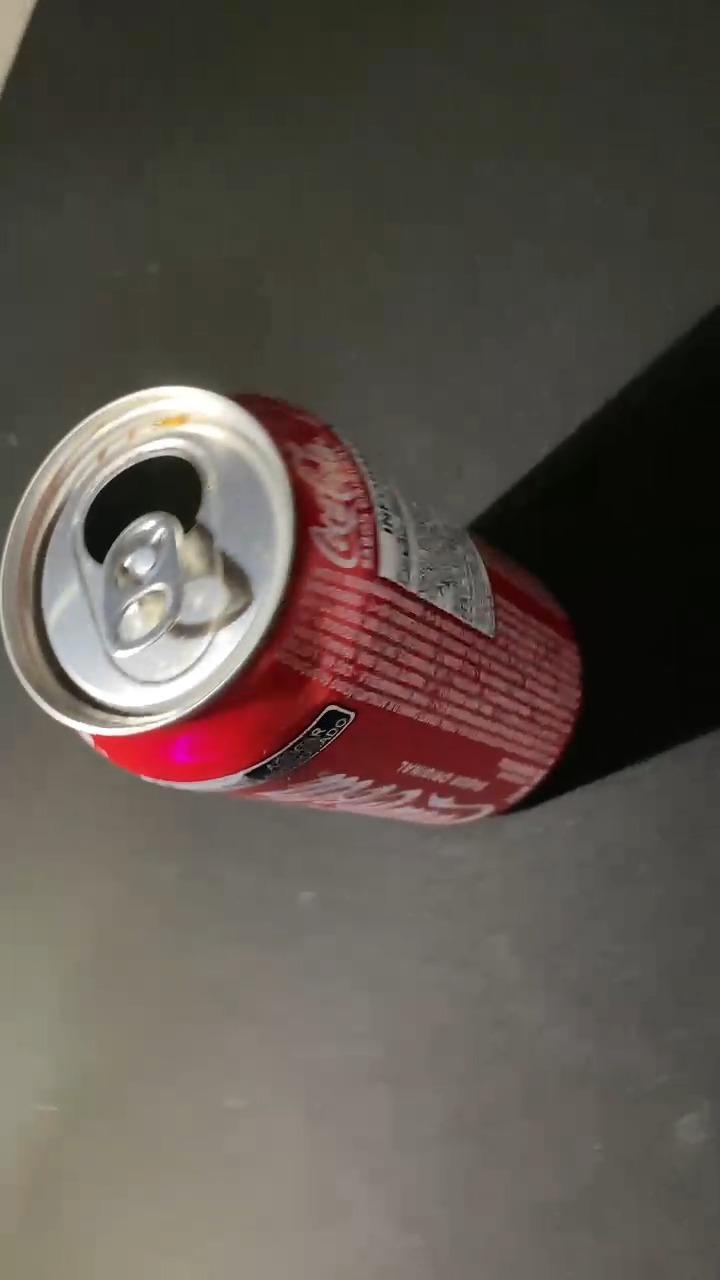coke: (0, 384, 580, 821)
